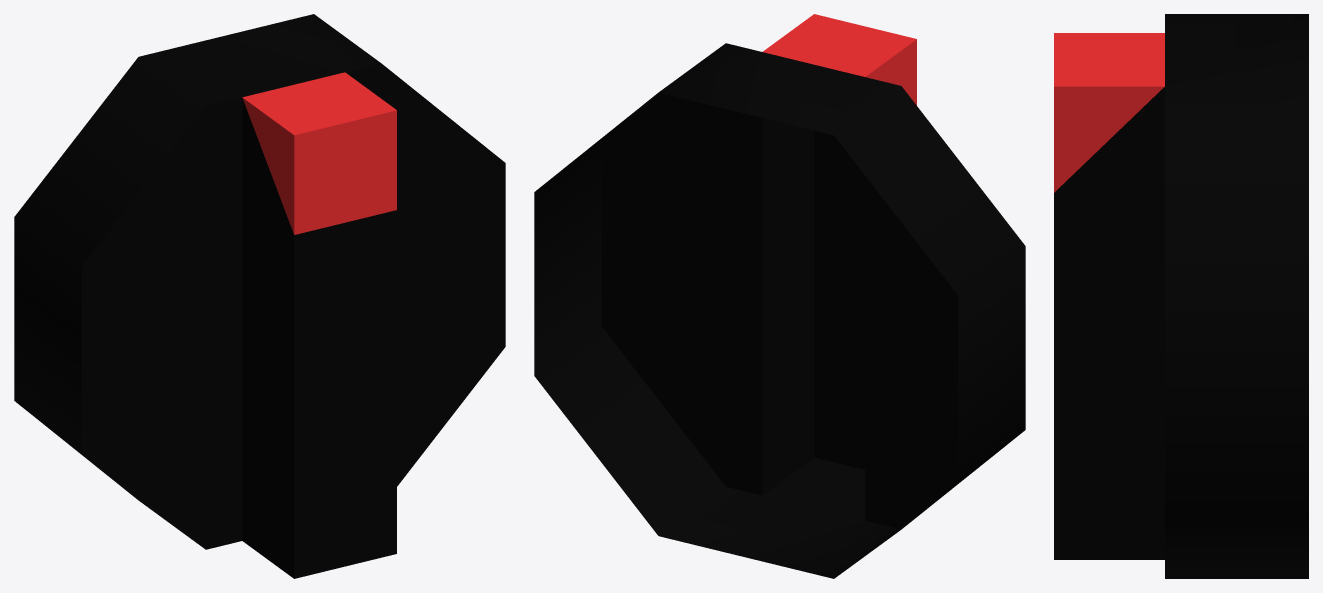
File: Itr_Oven_Induction_Controller_01.FBX
3 renders of one model, left to right at view 1: azimuth 30°, elevation 25°; view 2: azimuth 150°, elevation 25°; view 3: azimuth 270°, elevation 25°, orthographic. The views are drawn at different scales.
Visible parts, largest first — view 1: Itr_Oven_Induction_Controller_01; view 2: Itr_Oven_Induction_Controller_01; view 3: Itr_Oven_Induction_Controller_01.
Boxes of the visible parts, x1,y1,x2,y2 form: Itr_Oven_Induction_Controller_01: [14, 14, 505, 578]; Itr_Oven_Induction_Controller_01: [534, 14, 1025, 578]; Itr_Oven_Induction_Controller_01: [1054, 14, 1308, 578].
Size of the model in its own units: 3.14 by 3.14 by 1.53.
